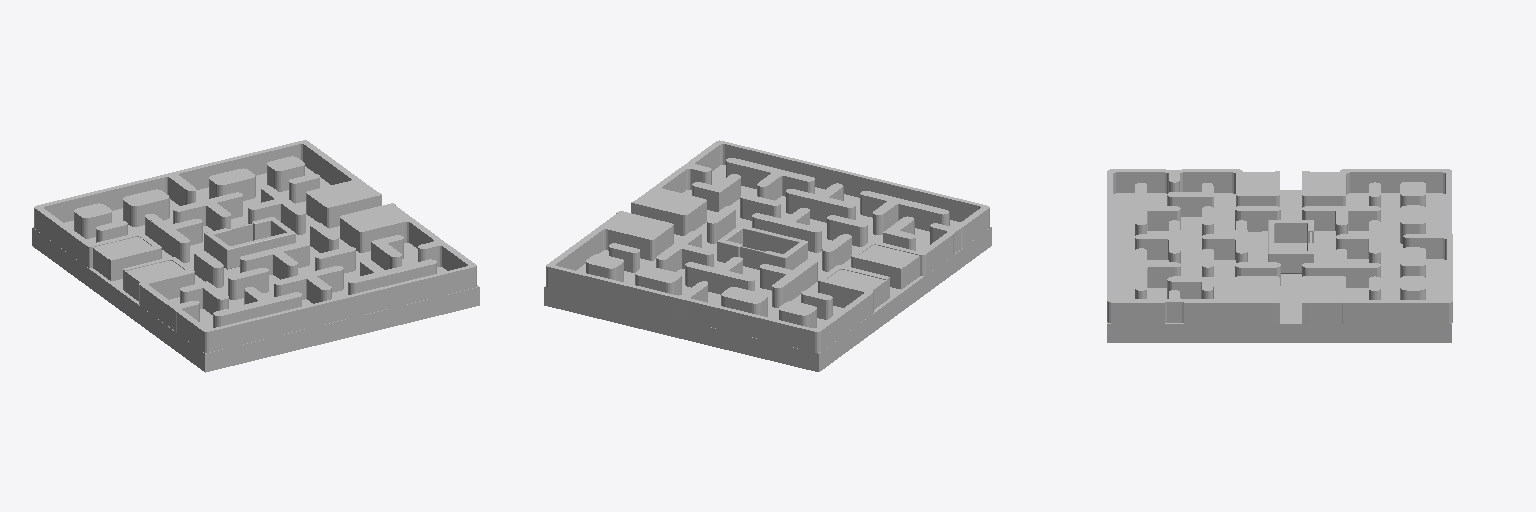
File: map.obj
3 views of the same model, side by side, from view 1: azimuth 30°, elevation 25°; view 2: azimuth 150°, elevation 25°; view 3: azimuth 270°, elevation 25° (orthographic).
Parts seen in each view (by area): view 1: map.002; view 2: map.002; view 3: map.002.
Part boxes in pixels (bbox=[...]): map.002: bbox=[32, 140, 479, 372]; map.002: bbox=[544, 140, 991, 371]; map.002: bbox=[1107, 169, 1452, 342].
Bounding box in the file's own units: 30.58 × 4.24 × 33.33.